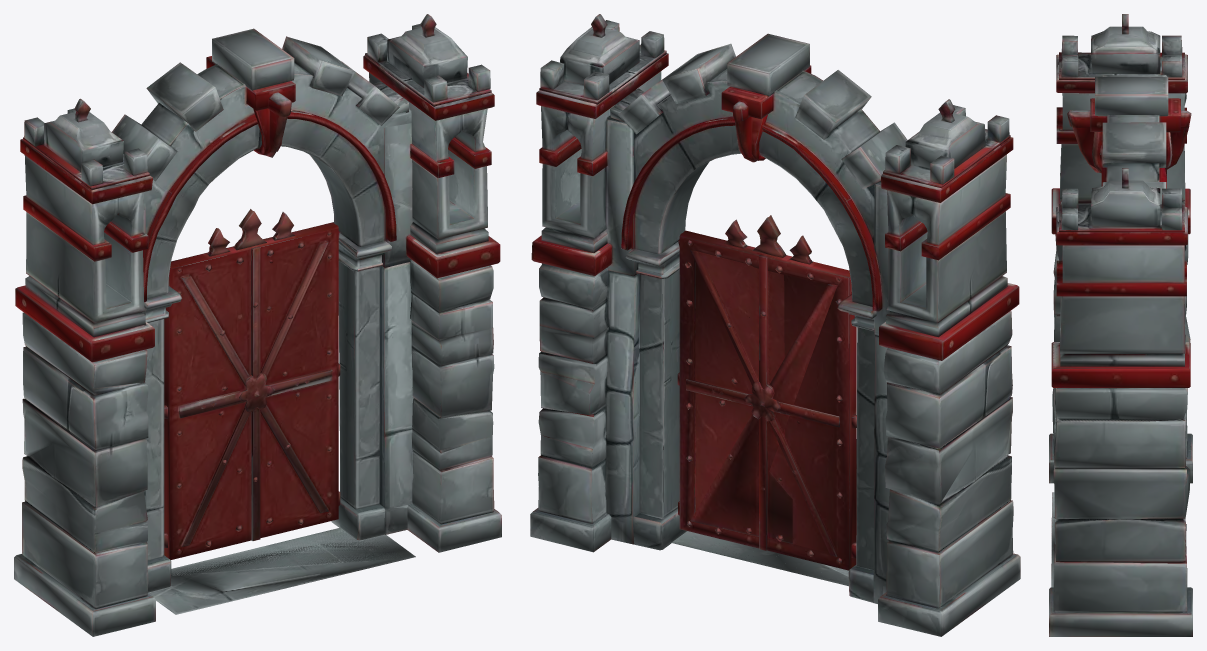
The model's file is archway.glb.
3 renders of one model, left to right at view 1: azimuth 30°, elevation 25°; view 2: azimuth 150°, elevation 25°; view 3: azimuth 270°, elevation 25°, orthographic. The views are drawn at different scales.
Bounding box in the file's own units: 0.8042 × 0.9512 × 0.2686.
Materials: 1 (1 with a texture image).
